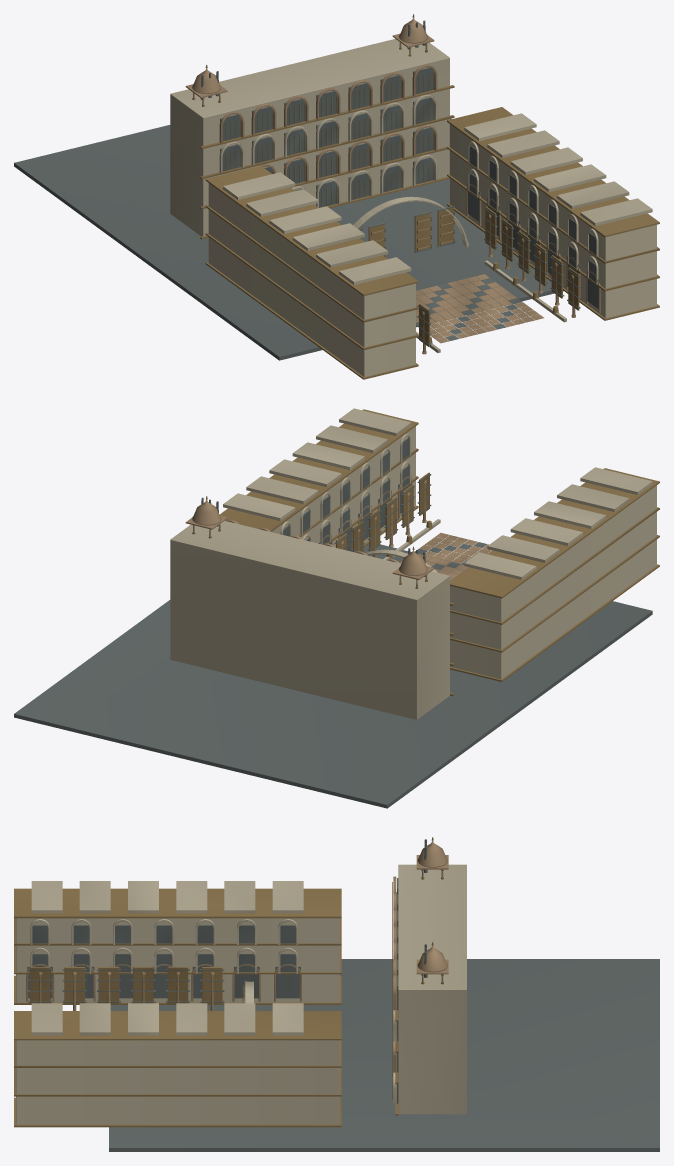
File: arena-40.glb
The picture shows the model from 3 angles, top to bottom: view 1: azimuth 30°, elevation 25°; view 2: azimuth 150°, elevation 25°; view 3: azimuth 270°, elevation 25°; orthographic projection. The views are drawn at different scales.
Visible parts, largest first — view 1: correction-plaster, correction-dark, correction-bronze, correction-sand; view 2: correction-plaster, correction-dark, correction-bronze, correction-sand; view 3: correction-plaster, correction-dark, correction-bronze, correction-sand.
Boxes of the visible parts, box(x1,y1,x2,y2) form: correction-plaster: box(170, 39, 656, 376); correction-dark: box(14, 20, 599, 360); correction-bronze: box(192, 14, 659, 379); correction-sand: box(185, 17, 600, 354); correction-plaster: box(170, 408, 656, 719); correction-dark: box(14, 438, 652, 808); correction-bronze: box(192, 409, 659, 695); correction-sand: box(185, 476, 491, 587); correction-plaster: box(16, 864, 466, 1124); correction-dark: box(27, 839, 659, 1151); correction-bronze: box(14, 837, 443, 1127); correction-sand: box(26, 840, 448, 1072).
Bounding box in the file's own units: 65 × 28.06 × 93.8.
